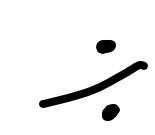div: (39, 40, 148, 121)
